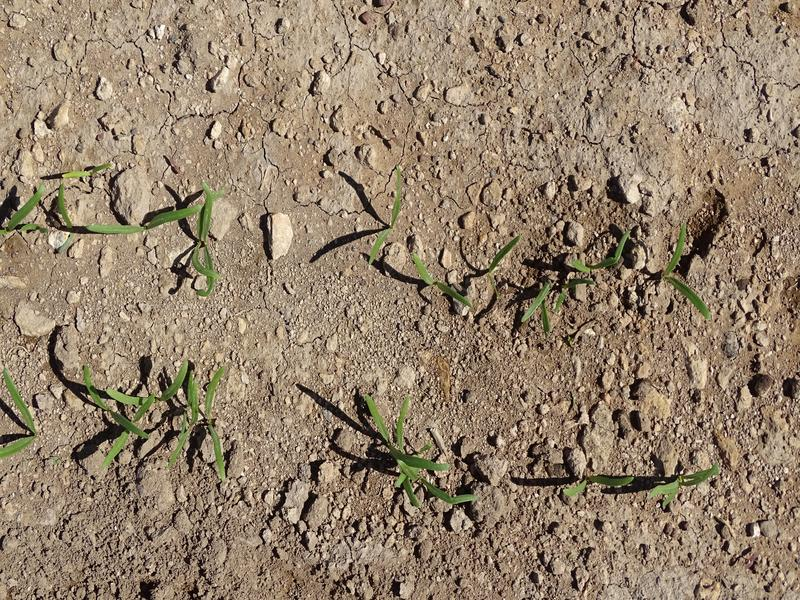Espinaca: (81, 359, 236, 480), (363, 392, 474, 508), (664, 224, 712, 317), (366, 170, 407, 261), (187, 183, 219, 297), (1, 362, 36, 460), (411, 254, 473, 308), (84, 204, 197, 232), (649, 463, 723, 503), (562, 231, 629, 275), (11, 196, 76, 231), (525, 279, 561, 330), (566, 469, 638, 493)
